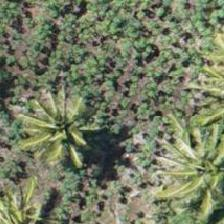coconut_tree: (21, 83, 111, 173), (165, 129, 223, 219)
